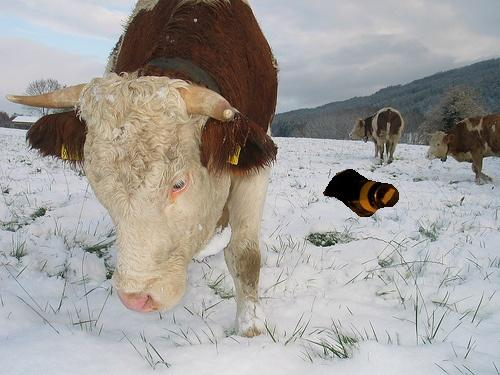tampered: (324, 170, 399, 217)
